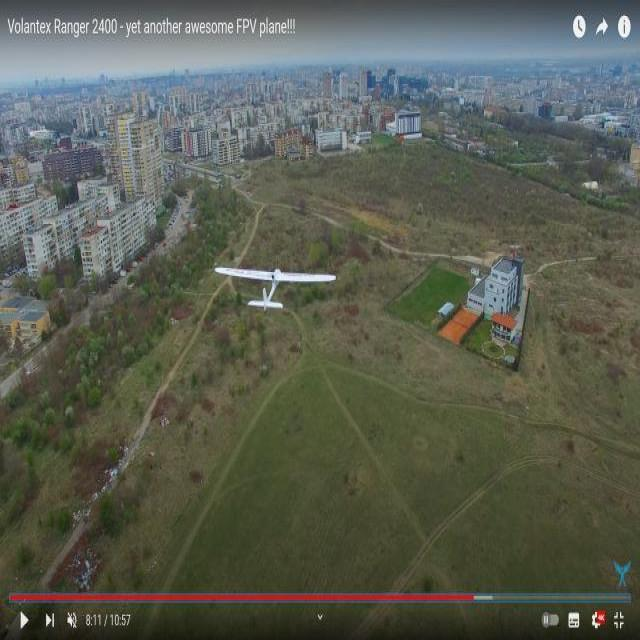UAV: (218, 248, 337, 342)
